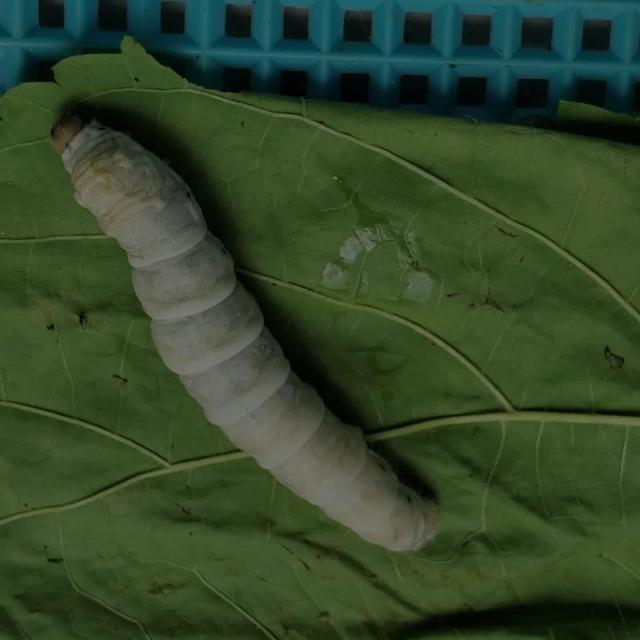Grasserie: (46, 102, 447, 561)
